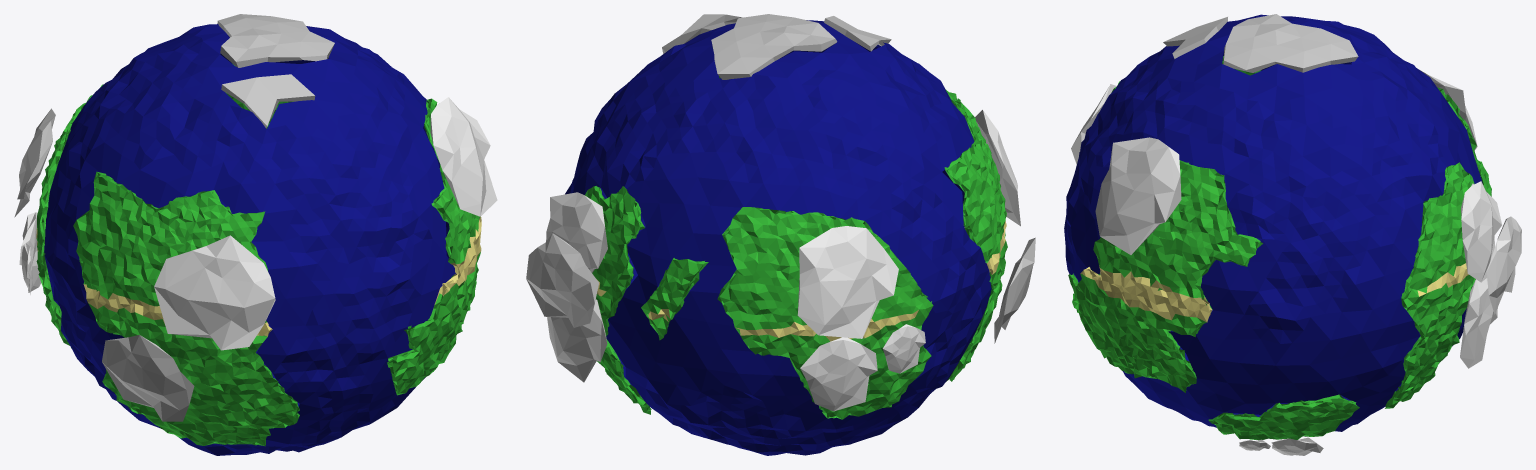
File: Dunya_4.fbx
3 renders of one model, left to right at view 1: azimuth 30°, elevation 25°; view 2: azimuth 150°, elevation 25°; view 3: azimuth 270°, elevation 25°, orthographic. The views are drawn at different scales.
Parts seen in each view (by area): view 1: Icosphere.011; view 2: Icosphere.011; view 3: Icosphere.011.
Part boxes in pixels (<box>): Icosphere.011: <box>14,14,497,455</box>; Icosphere.011: <box>526,14,1035,455</box>; Icosphere.011: <box>1064,14,1521,455</box>.
Bounding box in the file's own units: 391 × 389 × 414.
